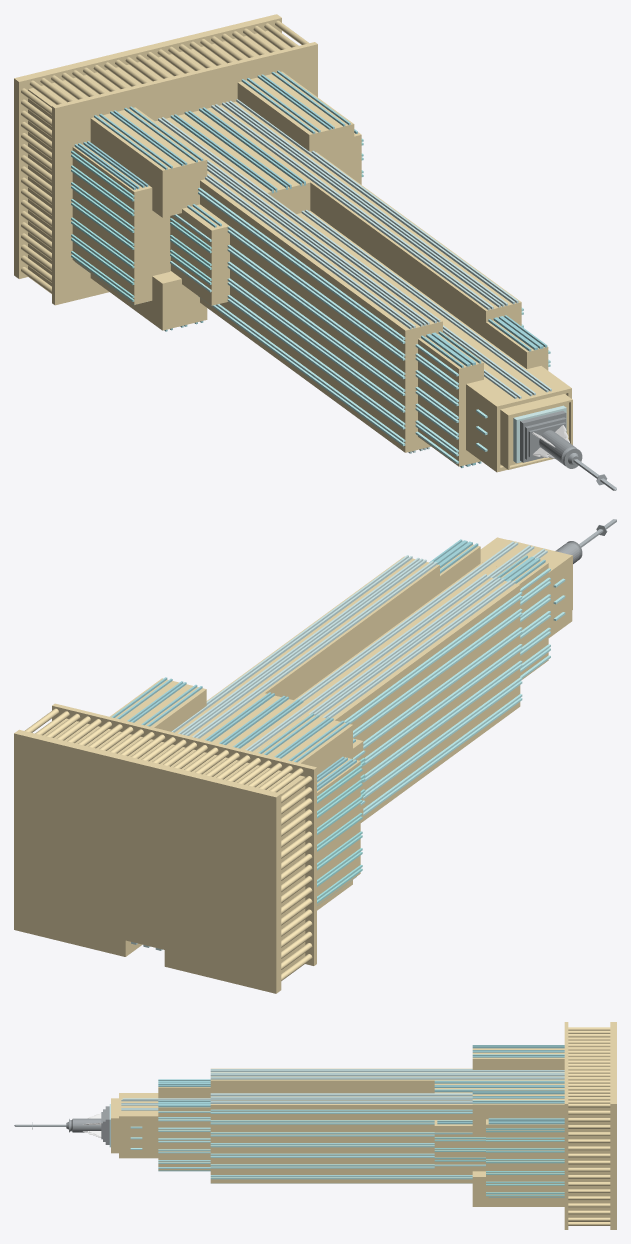
File: tinker.obj
3 views of the same model, one above another, from view 1: azimuth 30°, elevation 25°; view 2: azimuth 150°, elevation 25°; view 3: azimuth 270°, elevation 25° (orthographic). The views are drawn at different scales.
Parts seen in each view (by area): view 1: group_0_16311991, group_0_14481914, group_0_13237759, group_0_11593967, group_0_11793909, group_0_10988977; view 2: group_0_16311991, group_0_14481914, group_0_13237759, group_0_11593967, group_0_11793909; view 3: group_0_16311991, group_0_13237759, group_0_14481914, group_0_11593967, group_0_11793909, group_0_10988977.
Part boxes in pixels (x1,y1,x2,y2): group_0_16311991: (14, 14, 572, 472); group_0_14481914: (157, 99, 551, 453); group_0_13237759: (170, 187, 550, 463); group_0_11593967: (74, 70, 547, 467); group_0_11793909: (71, 138, 363, 301); group_0_10988977: (520, 410, 582, 468); group_0_16311991: (14, 537, 572, 993); group_0_14481914: (131, 541, 547, 950); group_0_13237759: (344, 568, 565, 816); group_0_11593967: (111, 539, 545, 905); group_0_11793909: (317, 758, 365, 903); group_0_16311991: (111, 1022, 616, 1229); group_0_13237759: (130, 1109, 485, 1179); group_0_14481914: (121, 1069, 564, 1183); group_0_11593967: (158, 1045, 564, 1197); group_0_11793909: (434, 1128, 564, 1196); group_0_10988977: (66, 1106, 109, 1144).
Size of the model in its own units: 61.77 by 44.66 by 192.
